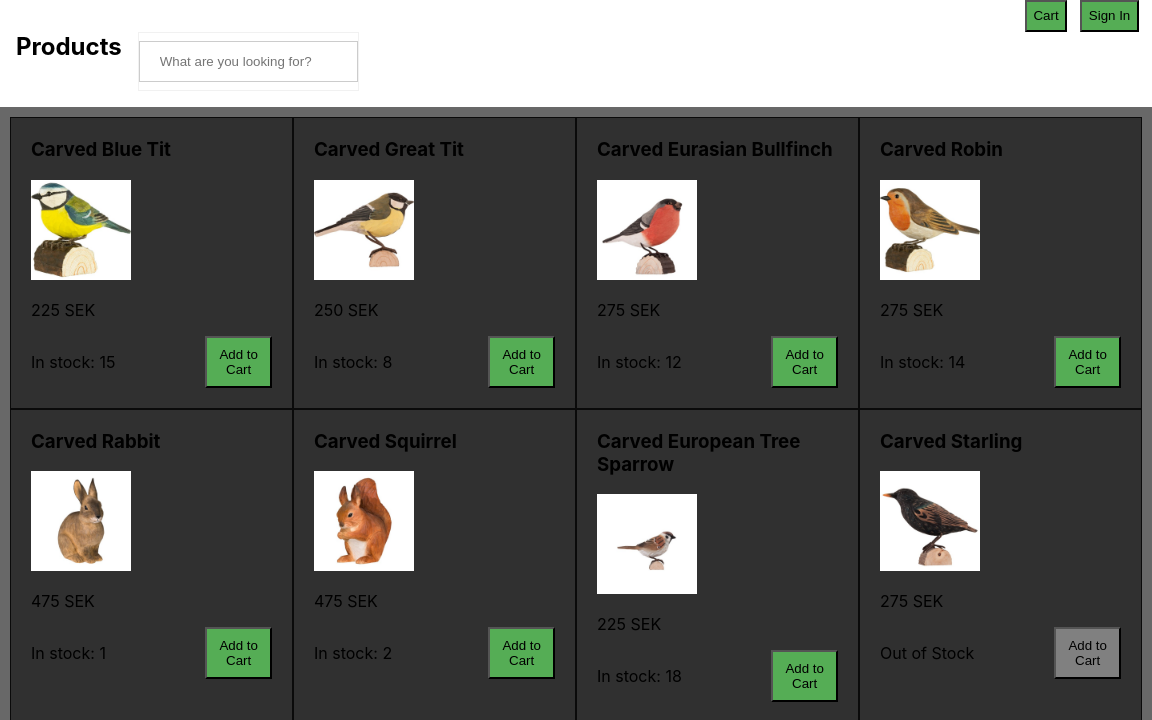
ProductList component › filters products after search
Type "squirrel" into the field with test id "search-input".
click(248, 61); type("squirrel")  # box x1=139 y1=41 x2=358 y2=82
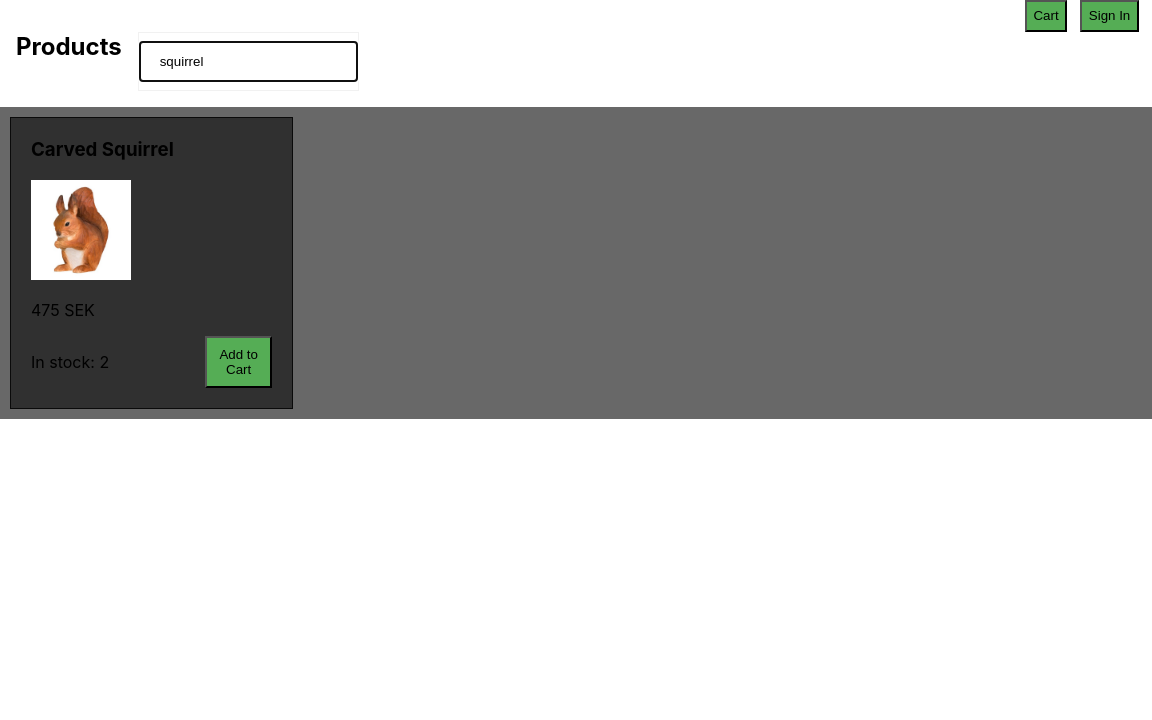
Expected: the number of list items is 1, x1=10 y1=117 x2=293 y2=408
